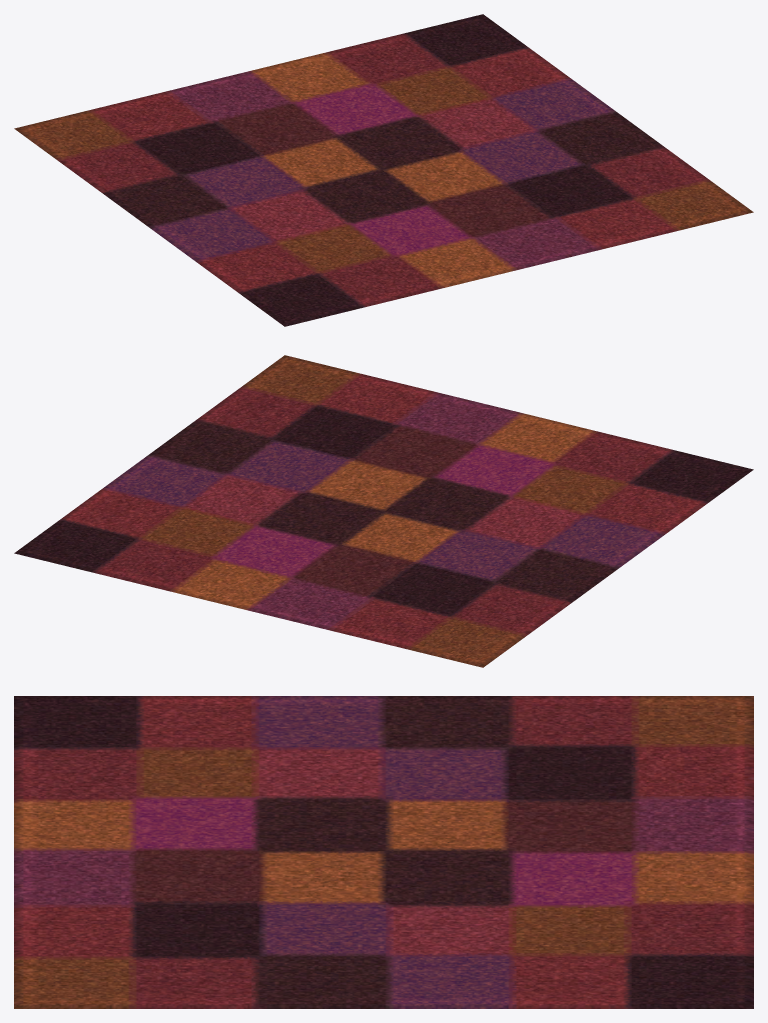
The model's file is RugSquareBlockM00.glb.
3 renders of one model, top to bottom at view 1: azimuth 30°, elevation 25°; view 2: azimuth 150°, elevation 25°; view 3: azimuth 270°, elevation 25°, orthographic. The views are drawn at different scales.
Parts seen in each view (by area): view 1: Main__mMain; view 2: Main__mMain; view 3: Main__mMain.
Boxes of the visible parts, x1=… form: Main__mMain: x1=14, y1=14, x2=753, y2=326; Main__mMain: x1=14, y1=355, x2=753, y2=667; Main__mMain: x1=14, y1=696, x2=753, y2=1008.
Size of the model in its own units: 30 by 0.03 by 30.
1 material, 1 textured.
